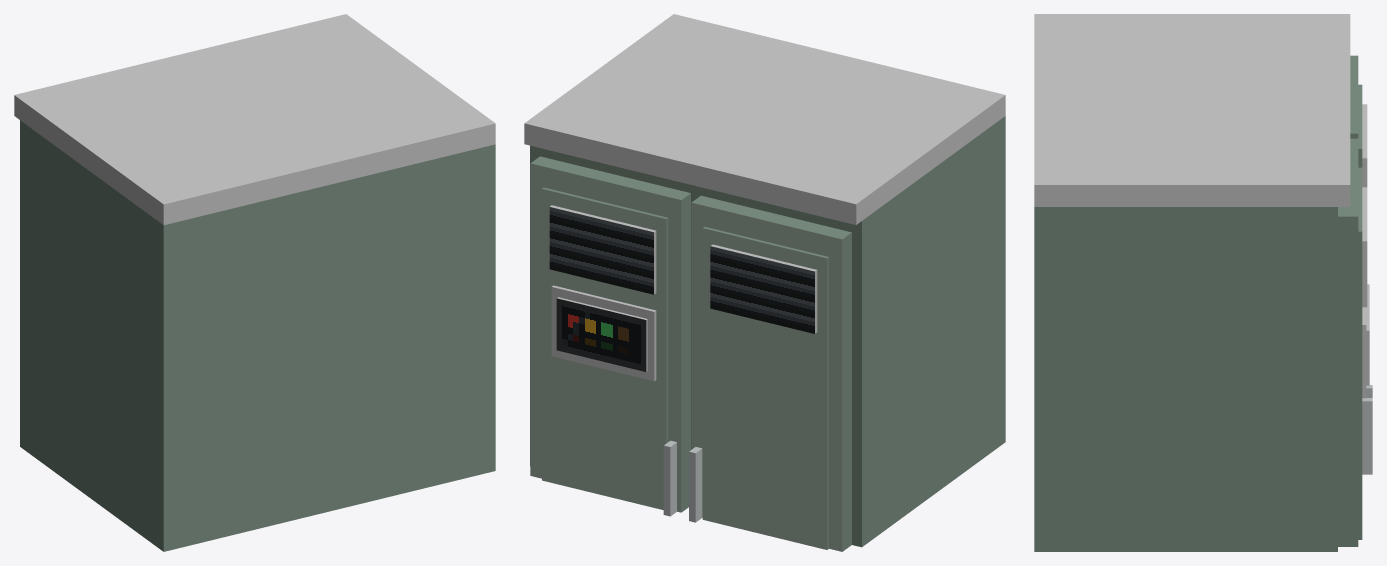
The model's file is cabinet_plain_upper.obj.
3 renders of one model, left to right at view 1: azimuth 30°, elevation 25°; view 2: azimuth 150°, elevation 25°; view 3: azimuth 270°, elevation 25°, orthographic. The views are drawn at different scales.
Visible parts, largest first — view 1: cabinet_plain_upper; view 2: cabinet_plain_upper; view 3: cabinet_plain_upper.
Part boxes in pixels (<box>): cabinet_plain_upper: <box>14,14,495,551</box>; cabinet_plain_upper: <box>524,14,1005,551</box>; cabinet_plain_upper: <box>1034,14,1372,551</box>.
Bounding box in the file's own units: 1 × 1 × 0.835.
